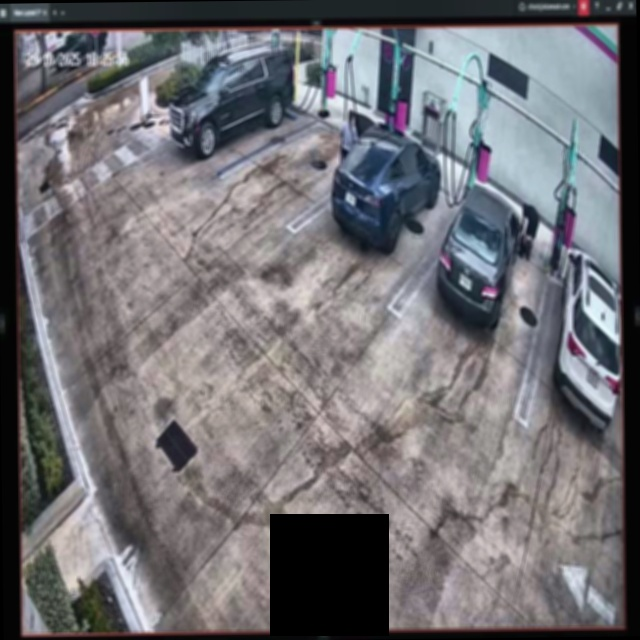Car: (329, 114, 441, 246), (438, 185, 522, 324)
